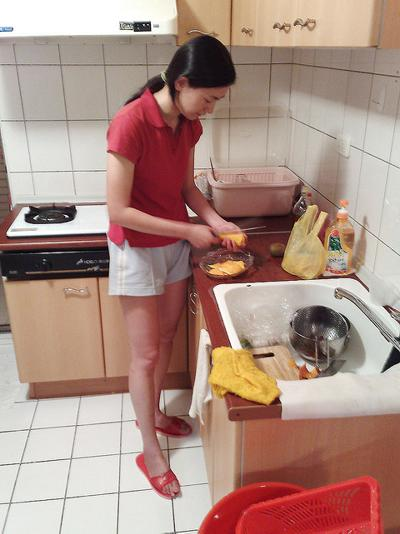person: (106, 34, 249, 502)
